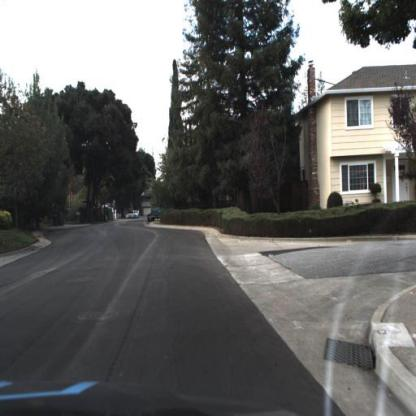car: (152, 198, 171, 222), (128, 212, 136, 220), (134, 212, 140, 220)
